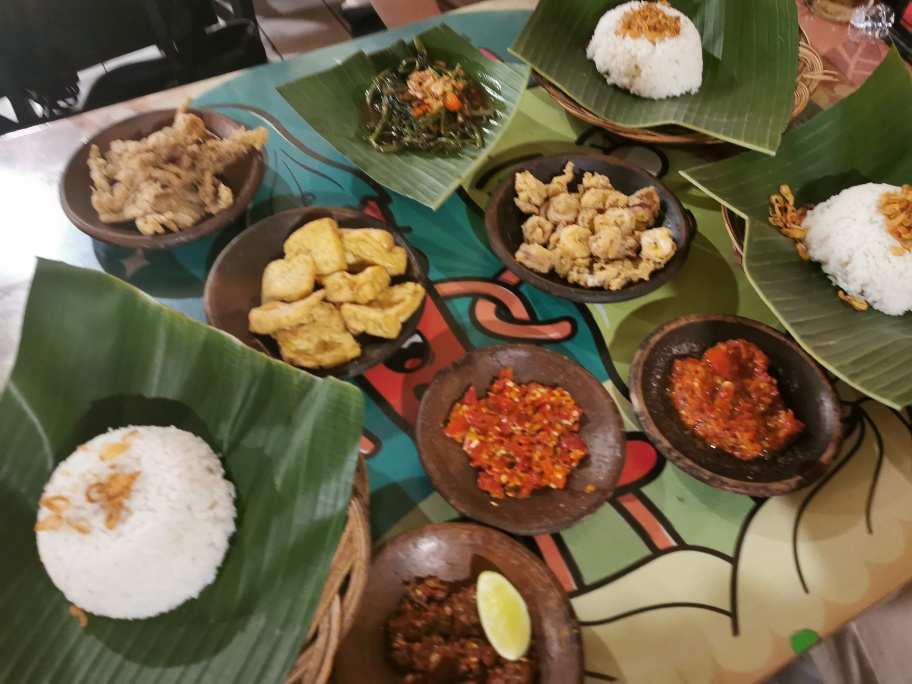nasi putih: (32, 424, 240, 621), (588, 1, 709, 102)
